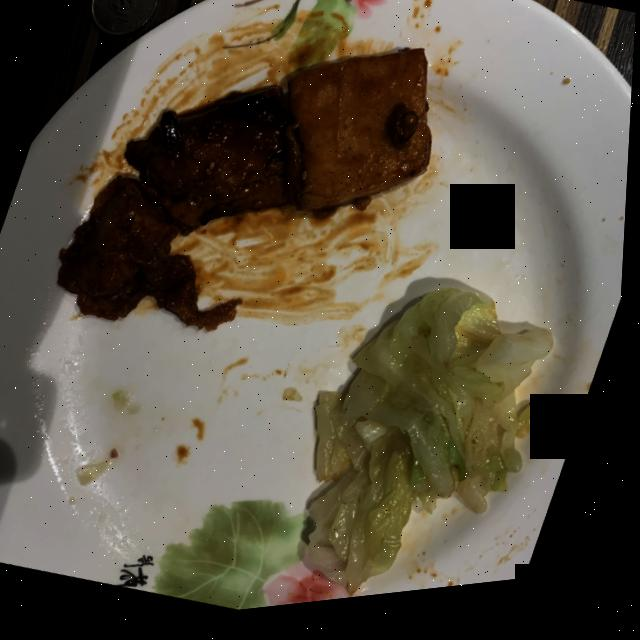cabbage: (314, 298, 557, 601)
coin: (91, 0, 157, 39)
creamy tofu: (60, 58, 433, 335)
